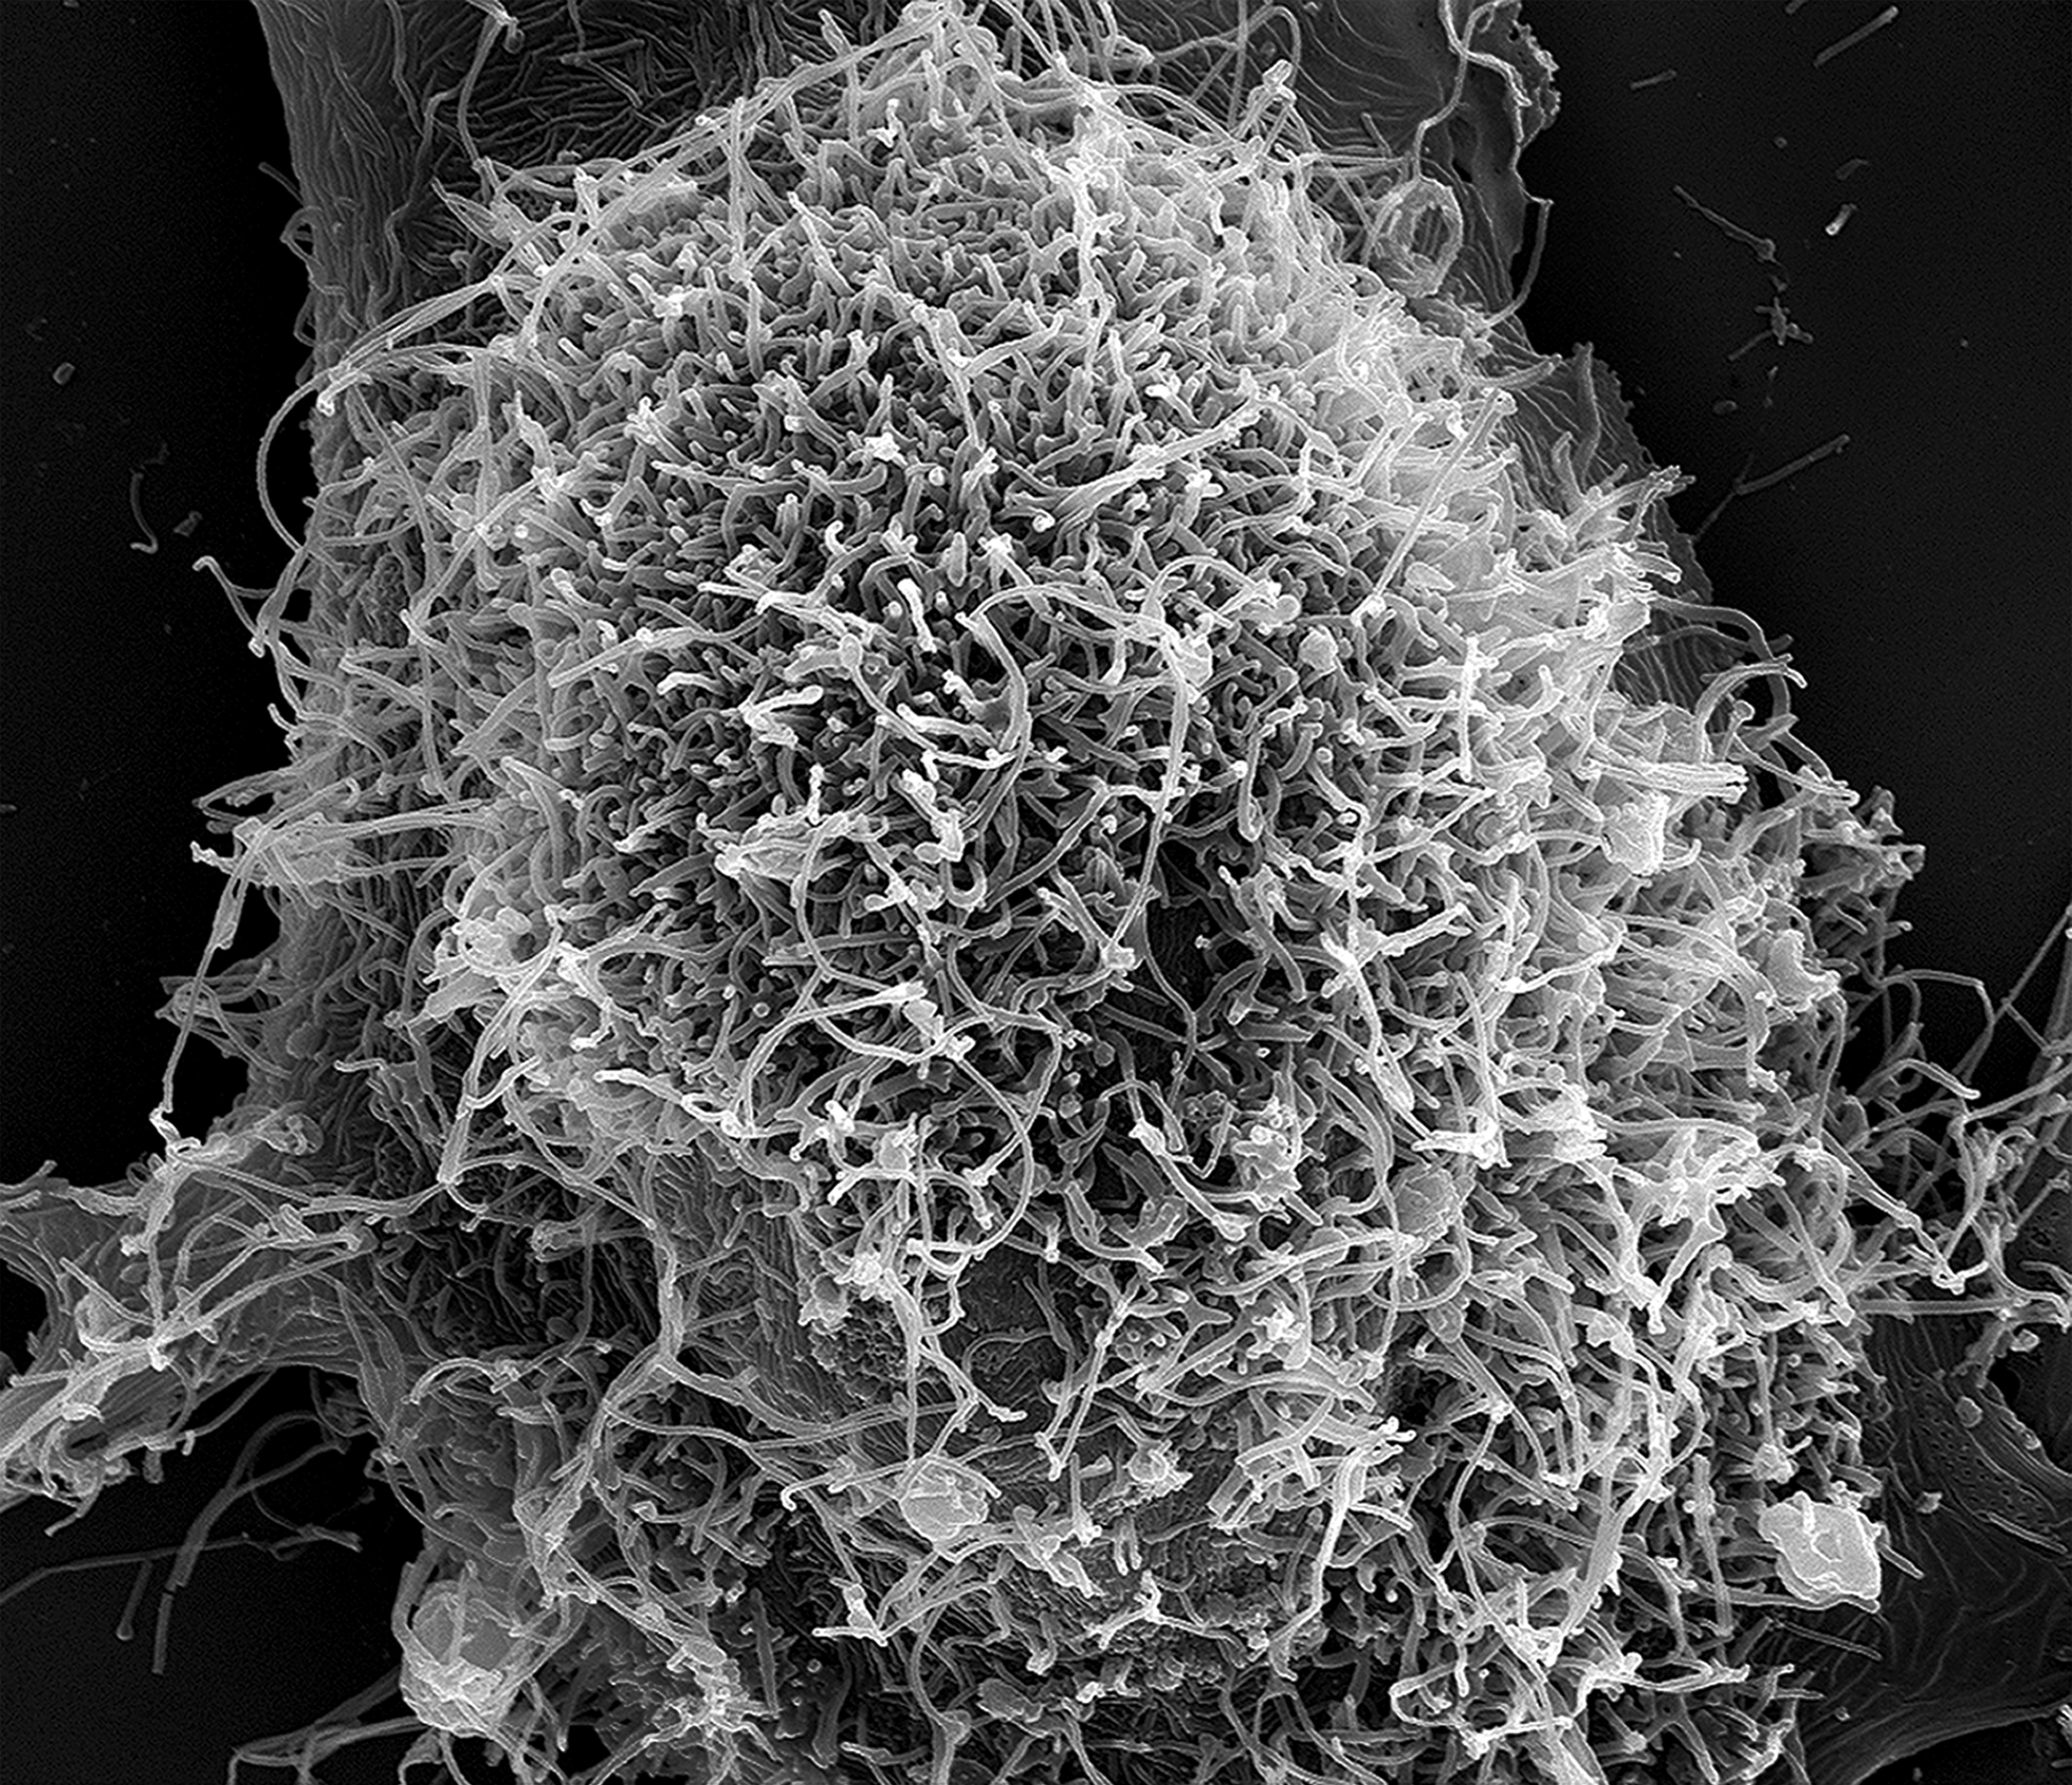EBOLA: (218, 143, 1626, 1288)
